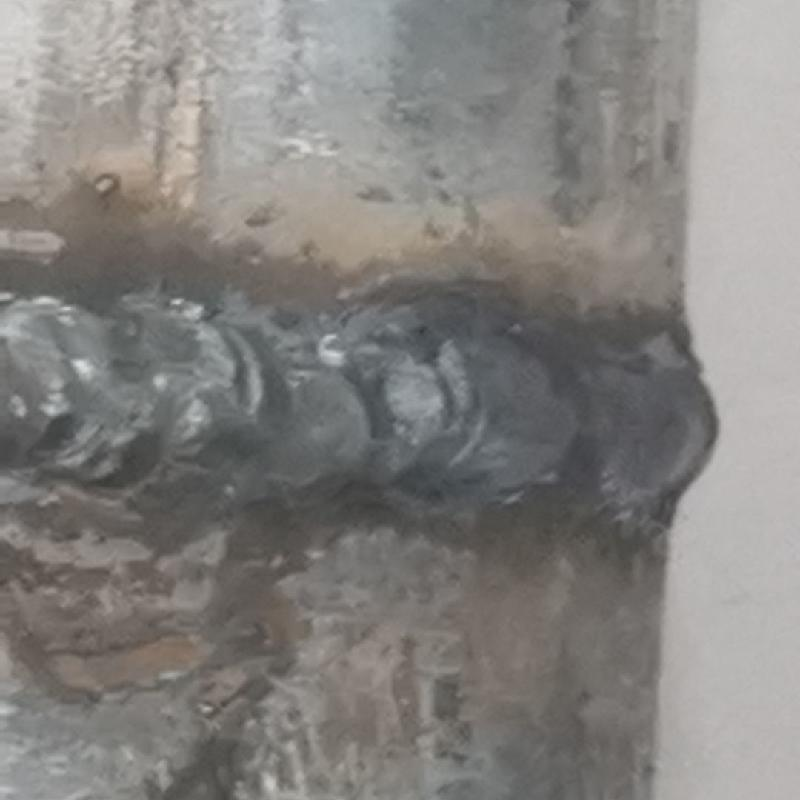good: (1, 286, 720, 529)
